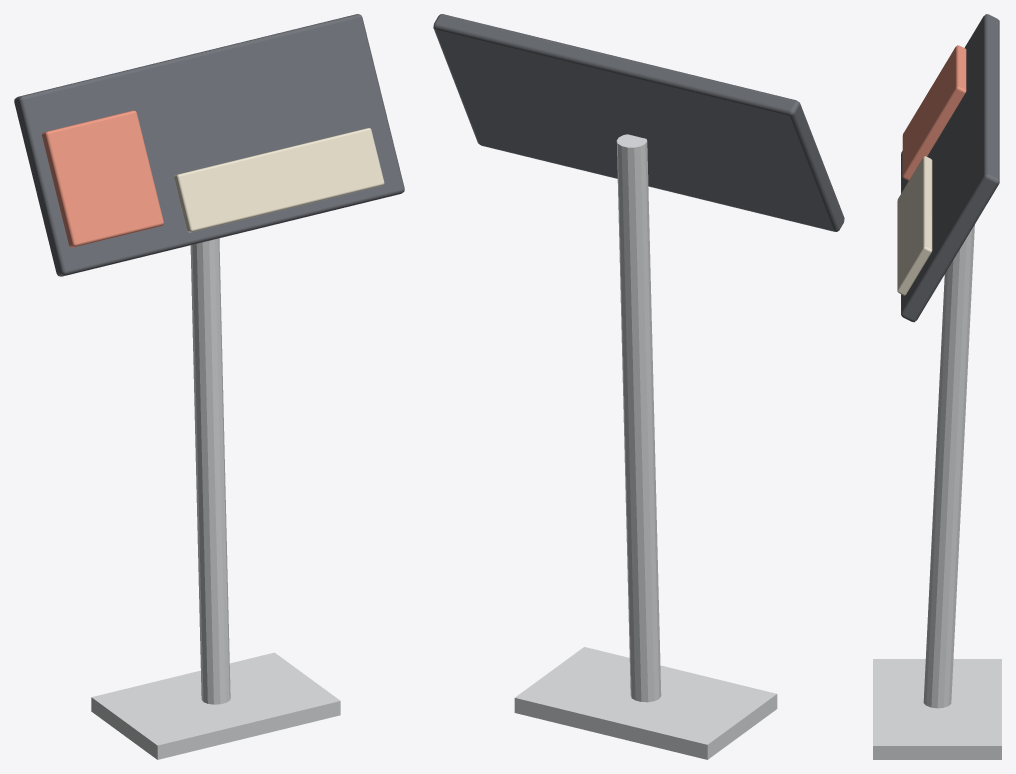
File: public-aquarium-and-marine-centre-species-label-plate-cc25fc4e__34155.glb
The picture shows the model from 3 angles, left to right: view 1: azimuth 30°, elevation 25°; view 2: azimuth 150°, elevation 25°; view 3: azimuth 270°, elevation 25°; orthographic projection. The views are drawn at different scales.
Visible parts, largest first — view 1: species-label-plate; view 2: species-label-plate; view 3: species-label-plate.
Boxes of the visible parts, box(x1,y1,x2,y2) form: species-label-plate: box(14, 14, 404, 759); species-label-plate: box(433, 14, 844, 759); species-label-plate: box(873, 14, 1001, 759).
Bounding box in the file's own units: 0.3 × 0.5335 × 0.1.
